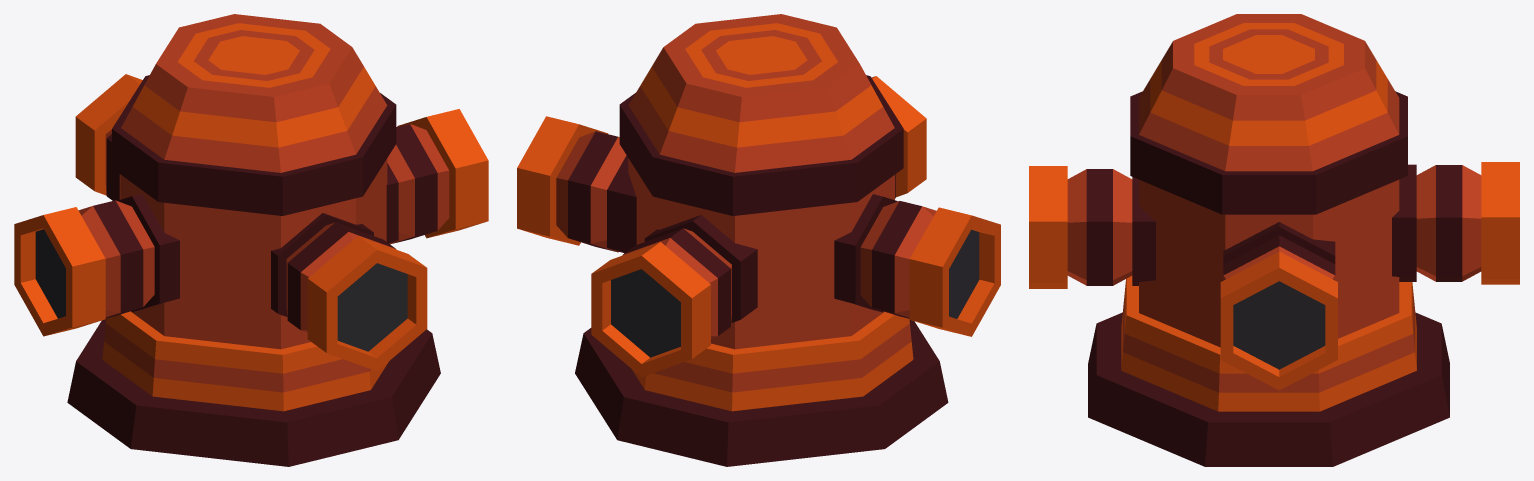
The model's file is TorchUpg2.fbx.
3 views of the same model, side by side, from view 1: azimuth 30°, elevation 25°; view 2: azimuth 150°, elevation 25°; view 3: azimuth 270°, elevation 25° (orthographic).
Parts seen in each view (by area): view 1: Cube.008, Cube.020; view 2: Cube.008, Cube.020; view 3: Cube.008, Cube.020.
Boxes of the visible parts, <box> form: Cube.008: <box>67,14,440,466</box>; Cube.020: <box>14,74,488,371</box>; Cube.008: <box>575,14,948,466</box>; Cube.020: <box>517,76,1000,377</box>; Cube.008: <box>1088,14,1449,466</box>; Cube.020: <box>1029,162,1519,390</box>.
Size of the model in its own units: 141 by 106 by 141.
